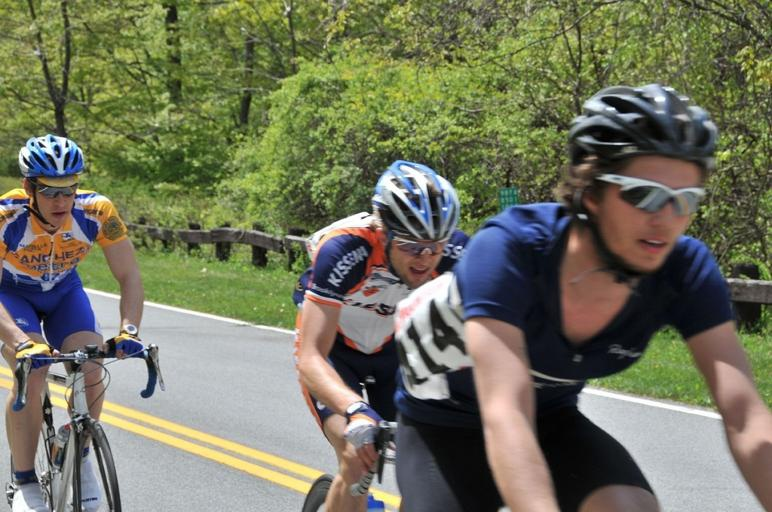non-vehicle: (4, 339, 165, 512), (299, 416, 402, 511)
